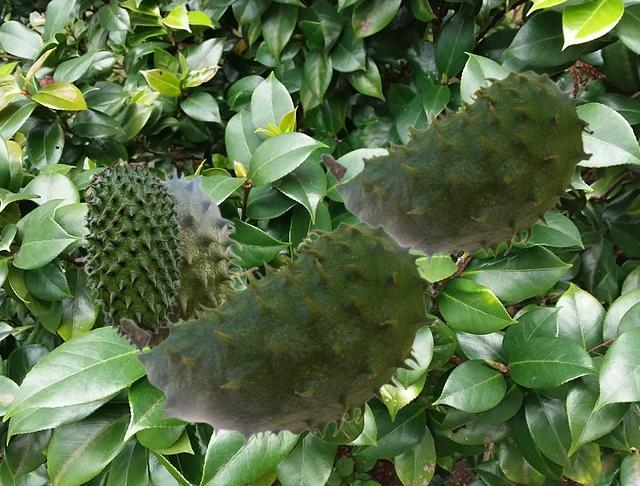guyabano: (119, 221, 437, 450), (320, 70, 593, 267), (74, 166, 258, 350), (80, 157, 184, 338)
